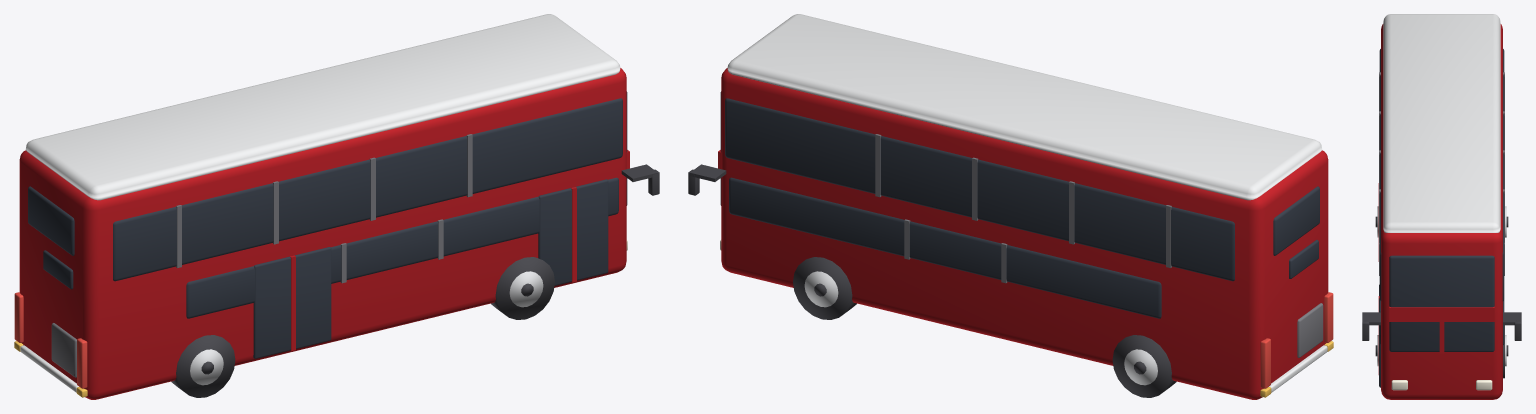
File: bus.glb
3 renders of one model, left to right at view 1: azimuth 30°, elevation 25°; view 2: azimuth 150°, elevation 25°; view 3: azimuth 270°, elevation 25°, orthographic. The views are drawn at different scales.
Parts seen in each view (by area): view 1: bus; view 2: bus; view 3: bus.
Part boxes in pixels (bbox=[...]): bus: bbox=[14, 14, 659, 399]; bus: bbox=[688, 14, 1333, 399]; bus: bbox=[1362, 14, 1521, 399].
Size of the model in its own units: 2.91 by 1.14 by 0.8636.
